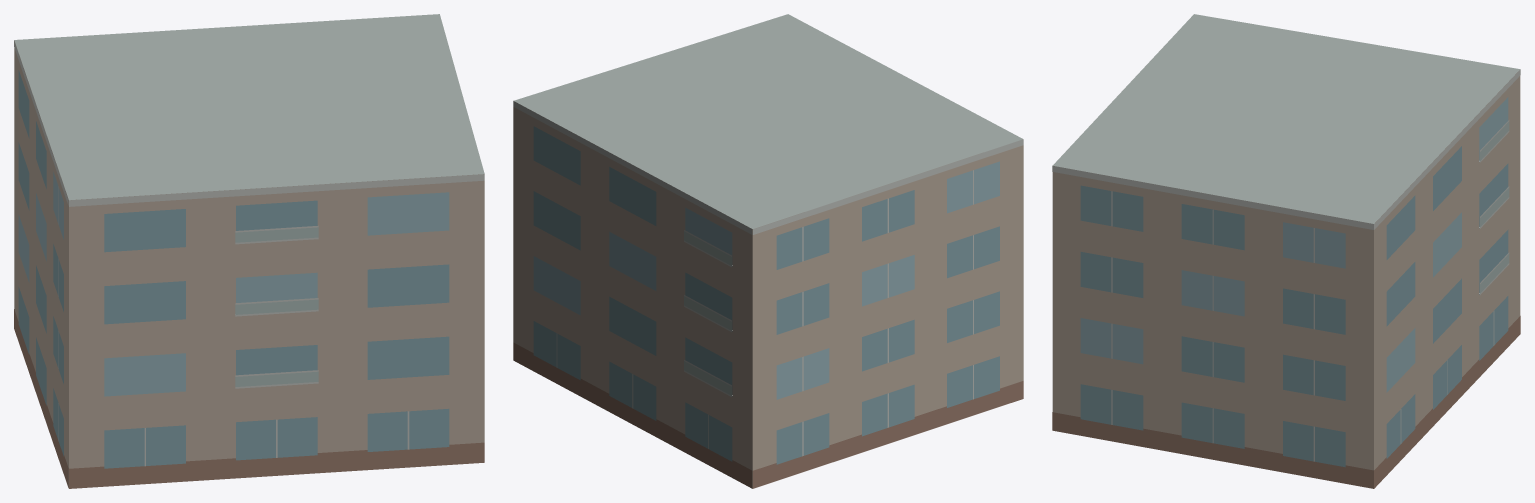
Rendered from survey-upis-32662717.glb.
3 renders of one model, left to right at view 1: azimuth 30°, elevation 25°; view 2: azimuth 150°, elevation 25°; view 3: azimuth 270°, elevation 25°, orthographic. The views are drawn at different scales.
Visible parts, largest first — view 1: survey-upis-32662717.tmp; view 2: survey-upis-32662717.tmp; view 3: survey-upis-32662717.tmp.
Part boxes in pixels (box(x1,y1,x2,y2)): survey-upis-32662717.tmp: box(14, 14, 484, 488); survey-upis-32662717.tmp: box(513, 14, 1023, 488); survey-upis-32662717.tmp: box(1052, 14, 1520, 488).
Size of the model in its own units: 17.95 by 10.55 by 16.9.
